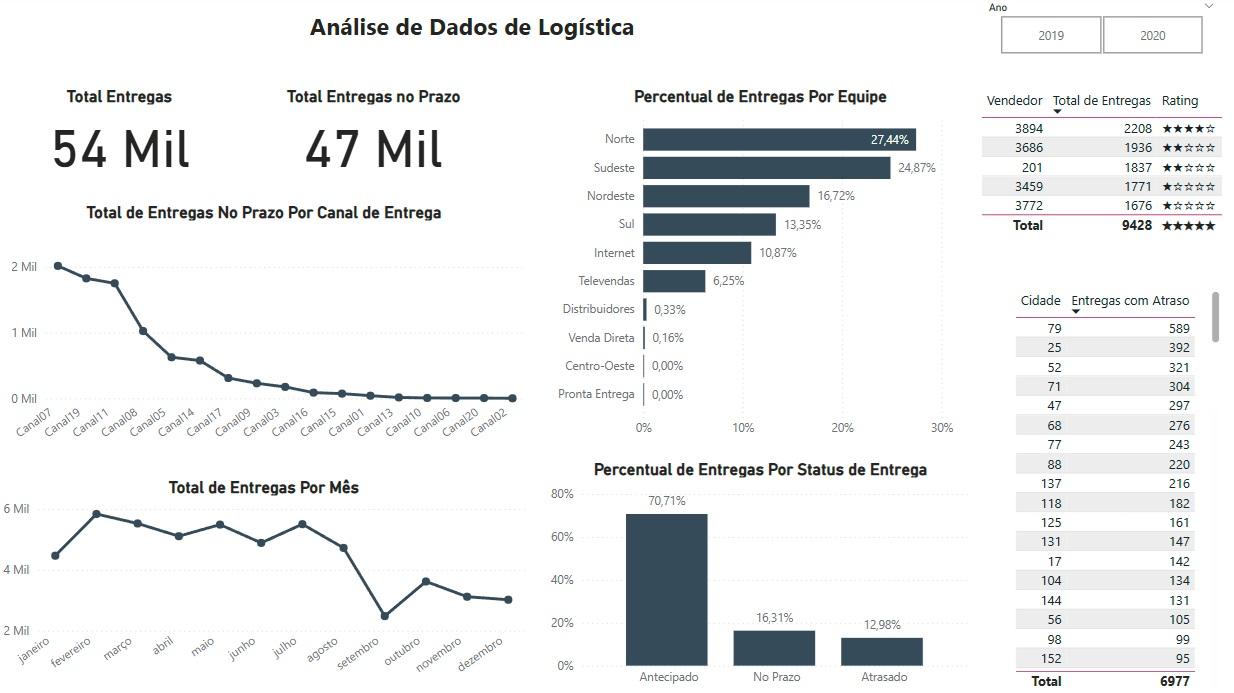

Layout of this report page (visuals, bound fields, positions):
{"tool":"powerbi","page":{"name":"Meu Dashboard","canvas":[1280,720],"ordinal":0},"visuals":[{"type":"areaChart","title":"Total de Entregas No Prazo Por Canal de Entrega","fields":{"Category":["Logistica.Canal_Entrega"],"Y":["Medidas.Total_Entregas"]},"box":[0,212.3,547.2,264.5],"z":0},{"type":"clusteredBarChart","title":"Percentual de Entregas Por Equipe","fields":{"Category":["Logistica.Equipe_Entrega"],"Y":["Medidas.Total_Entregas"]},"box":[564.2,92.2,441.6,370],"z":1000},{"type":"lineChart","title":"Total de Entregas Por Mês","fields":{"Category":["Logistica.Data_Entrega_Realizada.Variation.Hierarquia de datas.Mês"],"Y":["Medidas.Total_Entregas"]},"box":[0,495,547.2,224.5],"z":2000},{"type":"tableEx","title":"Total de Entregas com Atraso Por Cidade","fields":{"Values":["Logistica.ID_Cidade","Medidas.Total_Entregas"]},"box":[1041,298.5,220.8,421],"z":3000},{"type":"columnChart","title":"Percentual de Entregas Por Status de Entrega","fields":{"Category":["Logistica.Status_Entrega"],"Y":["Medidas.Total_Entregas"]},"box":[564.2,476.8,441.6,242.7],"z":4000},{"type":"tableEx","title":"Total de Entregas de Produtos dos Top 5 Vendedores","fields":{"Values":["Logistica.ID_Vendedor","Medidas.Total_Entregas","Medidas.Rating"]},"box":[1005.8,92.2,274.2,191.7],"z":5000},{"type":"textbox","box":[12.1,9.7,951.2,55.8],"z":6000},{"type":"card","title":"Total Entregas","fields":{"Values":["Medidas.Total_Entregas"]},"box":[0,92.2,249.9,95.8],"z":6001},{"type":"card","title":"Total Entregas no Prazo","fields":{"Values":["Medidas.Total_Entregas_no_prazo"]},"box":[249.9,92.2,273,95.8],"z":6002},{"type":"slicer","fields":{"Values":["Logistica.Data_Pedido.Variation.Hierarquia de datas.Ano"]},"box":[1005.8,0,257.2,65.5],"z":6003}]}

Visuals, with their boxes in screenshot pixels (x1, y1, x2, y2), scaled from the page's 1280x720 canvas onto the 1234x693 screenshot:
"Total de Entregas No Prazo Por Canal de Entrega" areaChart: 0, 204, 528, 459
"Percentual de Entregas Por Equipe" clusteredBarChart: 544, 89, 970, 445
"Total de Entregas Por Mês" lineChart: 0, 476, 528, 692
"Total de Entregas com Atraso Por Cidade" tableEx: 1004, 287, 1216, 692
"Percentual de Entregas Por Status de Entrega" columnChart: 544, 459, 970, 692
"Total de Entregas de Produtos dos Top 5 Vendedores" tableEx: 970, 89, 1233, 273
textbox: 12, 9, 929, 63
"Total Entregas" card: 0, 89, 241, 181
"Total Entregas no Prazo" card: 241, 89, 504, 181
slicer - Logistica.Data_Pedido.Variation.Hierarquia de datas.Ano: 970, 0, 1218, 63
